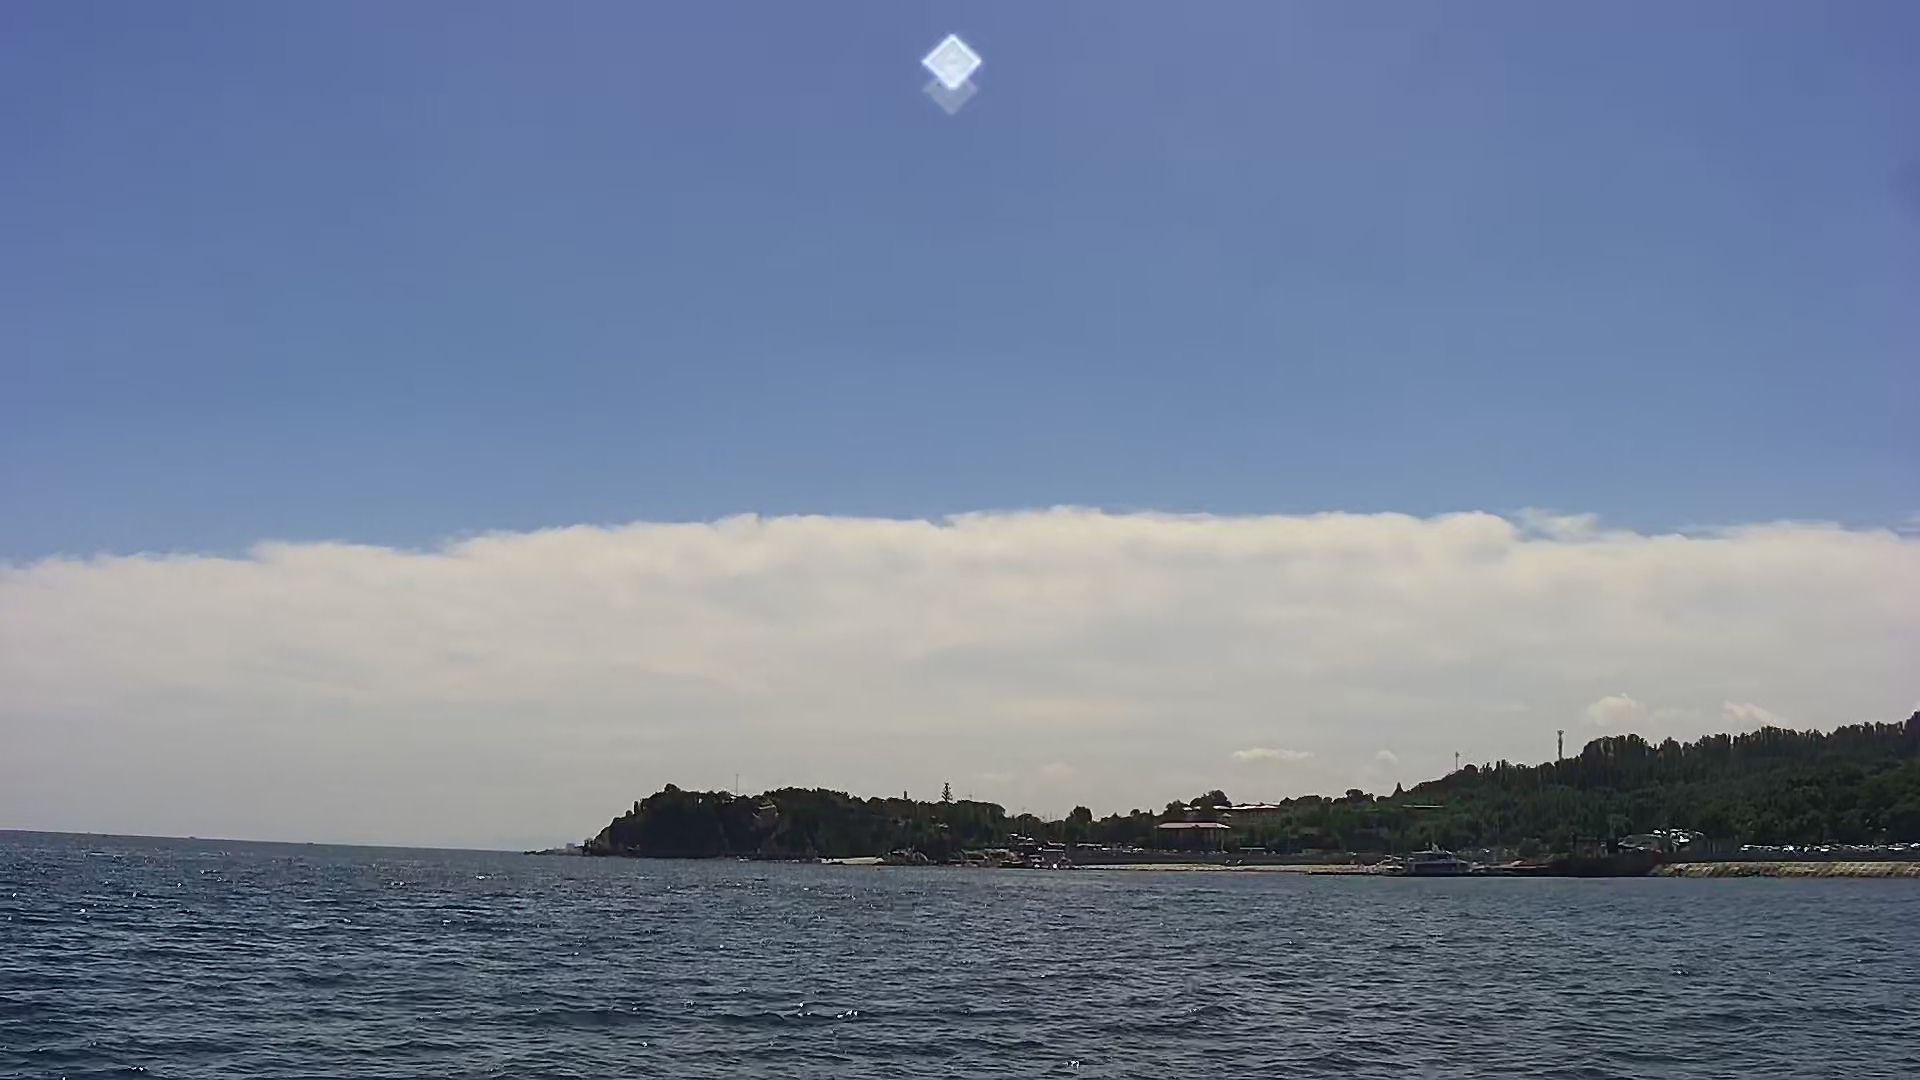boat: (1515, 822, 1677, 876), (1379, 845, 1487, 878)
